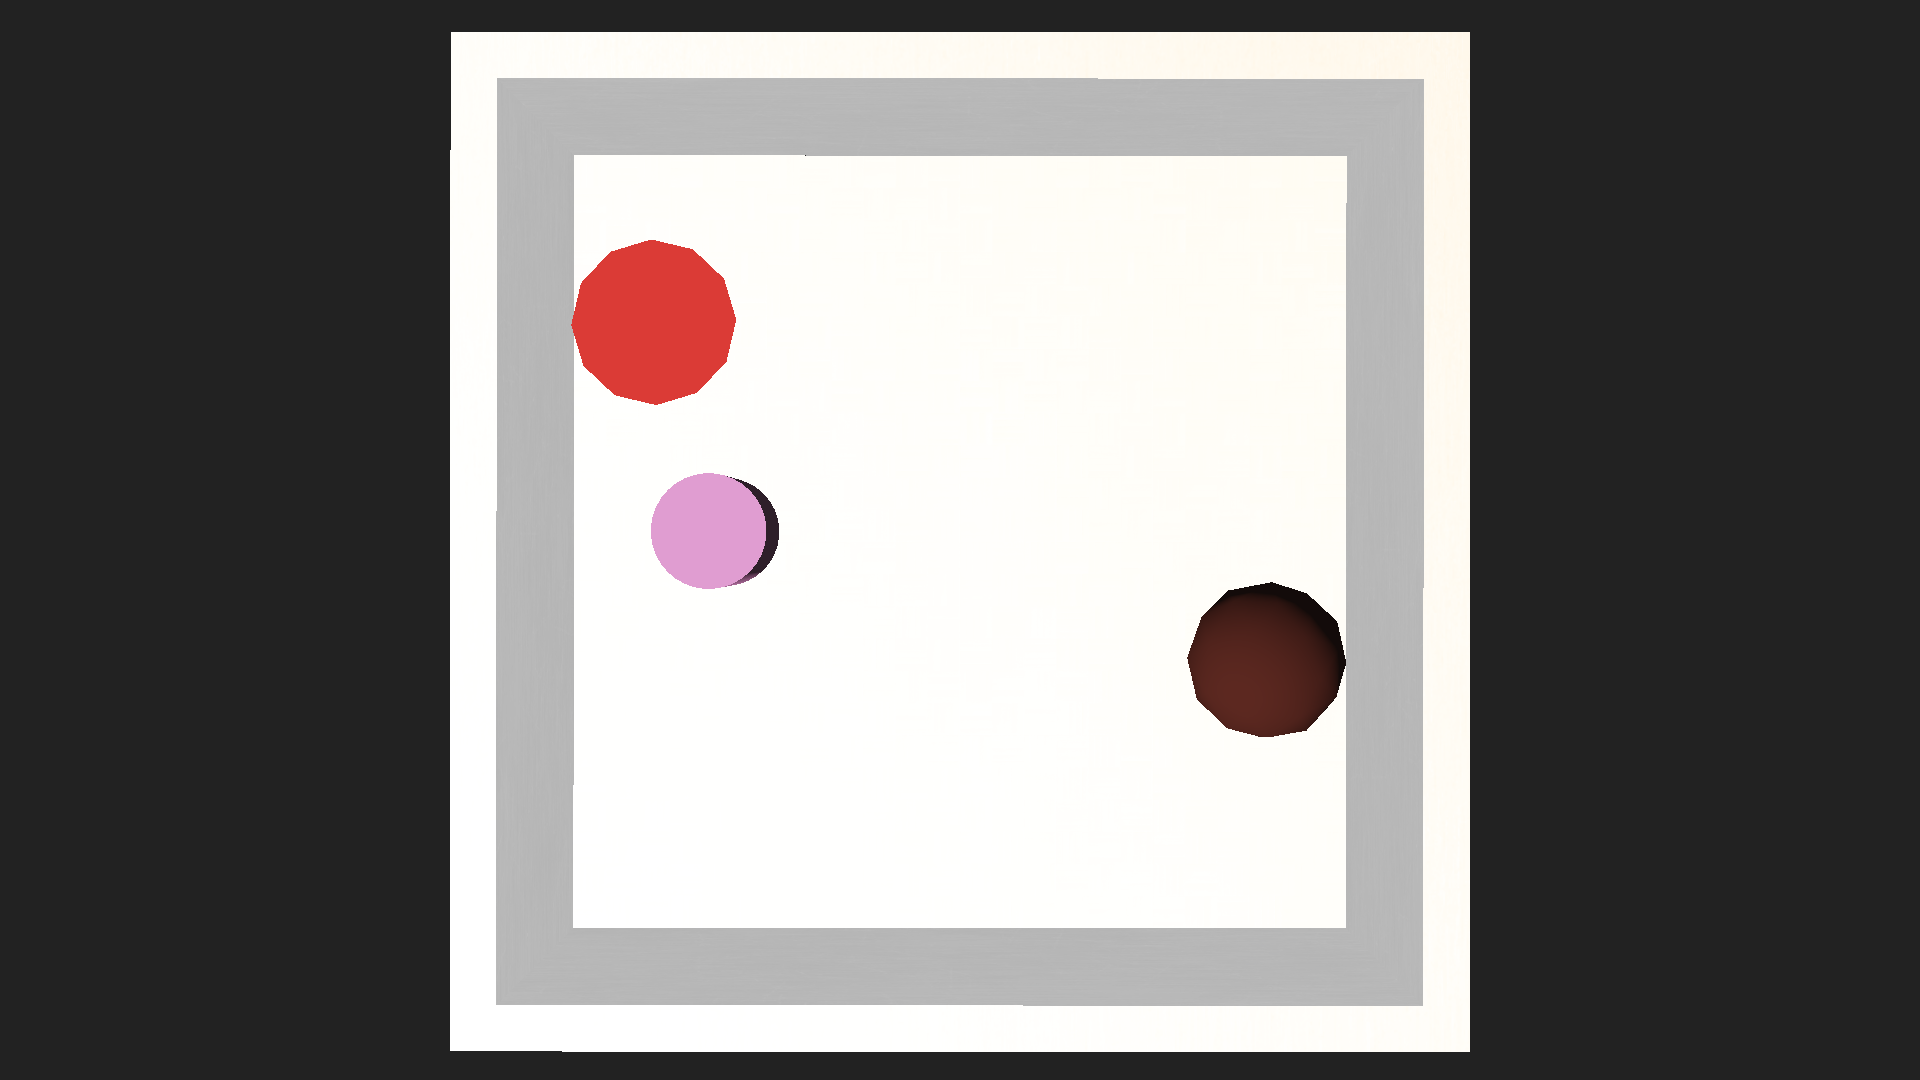cone: (650, 472, 779, 588)
cylinder: (576, 244, 748, 409)
sphere: (1187, 579, 1345, 738)
